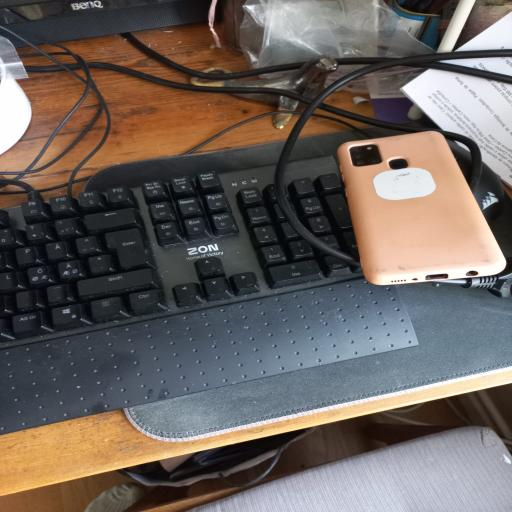phone: (338, 132, 505, 284)
